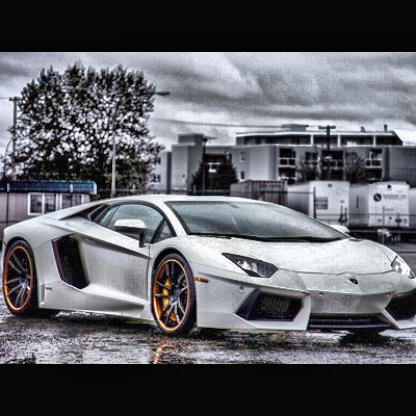Lamborghini Aventador Coupe 2012: (2, 191, 416, 349)
